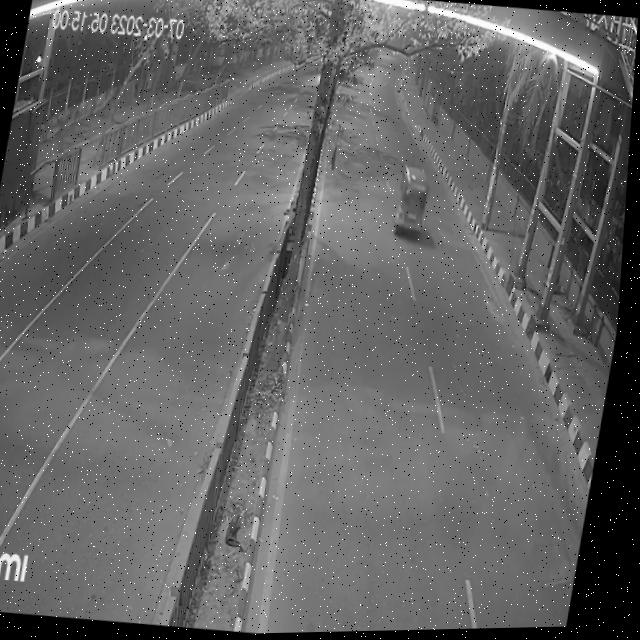cng: (391, 162, 437, 245)
